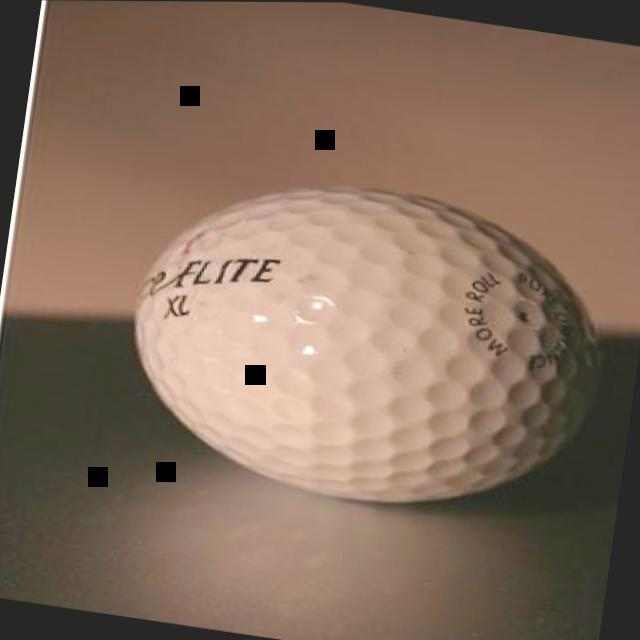golf ball: (84, 138, 640, 553)
